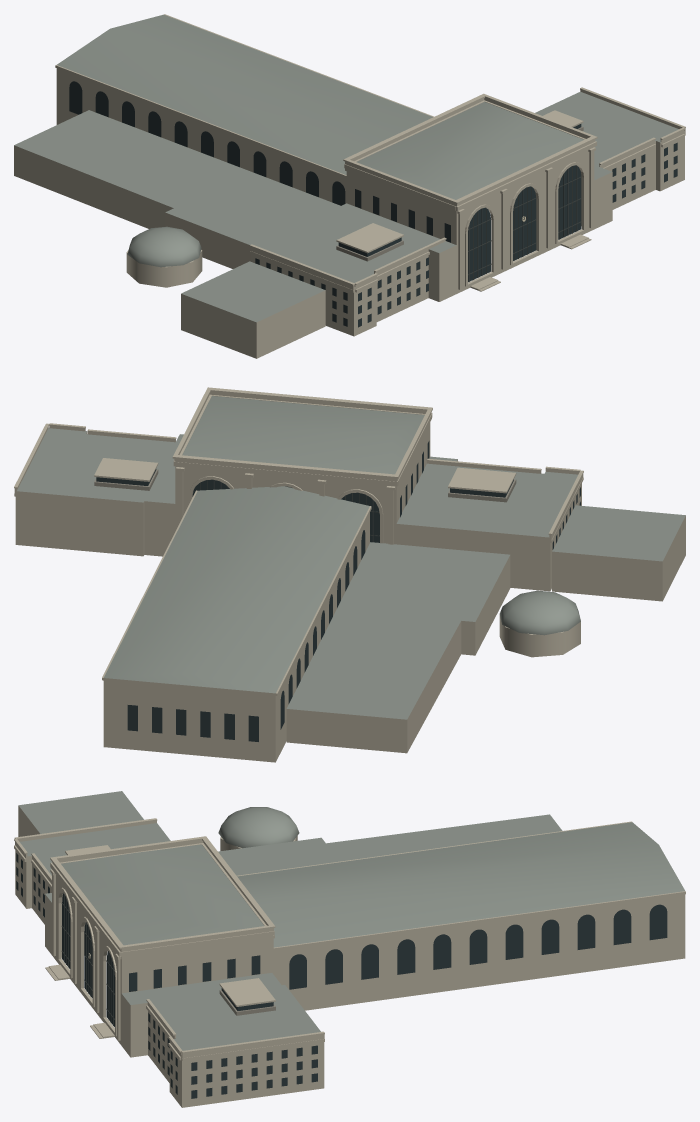
File: union-station-kansas-city-far.glb
The picture shows the model from 3 angles, top to bottom: view 1: azimuth 30°, elevation 25°; view 2: azimuth 150°, elevation 25°; view 3: azimuth 270°, elevation 25°; orthographic projection. The views are drawn at different scales.
Visible parts, largest first — view 1: union-station-kansas-city-0-roof, union-station-kansas-city-0-stone, union-station-kansas-city-0-glass, union-station-kansas-city-0-metal; view 2: union-station-kansas-city-0-roof, union-station-kansas-city-0-stone, union-station-kansas-city-0-glass, union-station-kansas-city-0-base; view 3: union-station-kansas-city-0-roof, union-station-kansas-city-0-stone, union-station-kansas-city-0-glass, union-station-kansas-city-0-metal.
Part boxes in pixels (x1,y1,x2,y2): union-station-kansas-city-0-roof: (14,14,678,322); union-station-kansas-city-0-stone: (14,14,685,358); union-station-kansas-city-0-glass: (69,81,677,327); union-station-kansas-city-0-metal: (468,165,581,281); union-station-kansas-city-0-roof: (17,396,685,719); union-station-kansas-city-0-stone: (14,387,685,762); union-station-kansas-city-0-glass: (96,441,580,741); union-station-kansas-city-0-base: (94,469,516,502); union-station-kansas-city-0-roof: (18,791,684,1050); union-station-kansas-city-0-stone: (14,805,685,1107); union-station-kansas-city-0-glass: (16,853,667,1098); union-station-kansas-city-0-metal: (61,894,114,1025).
Size of the model in its own units: 191 by 32.8 by 195.
